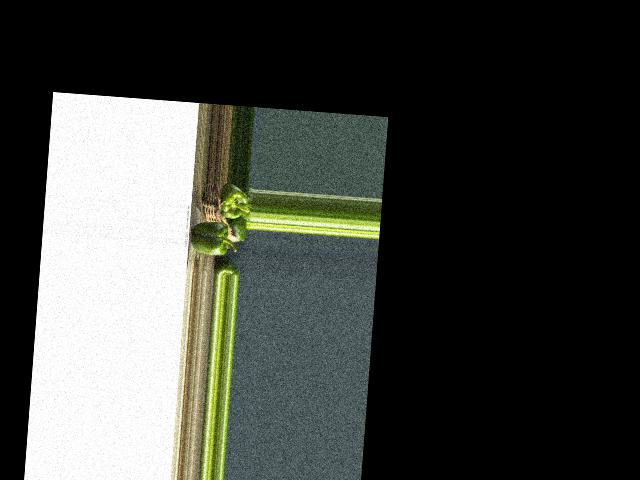bell_pepper: (217, 262, 239, 277)
